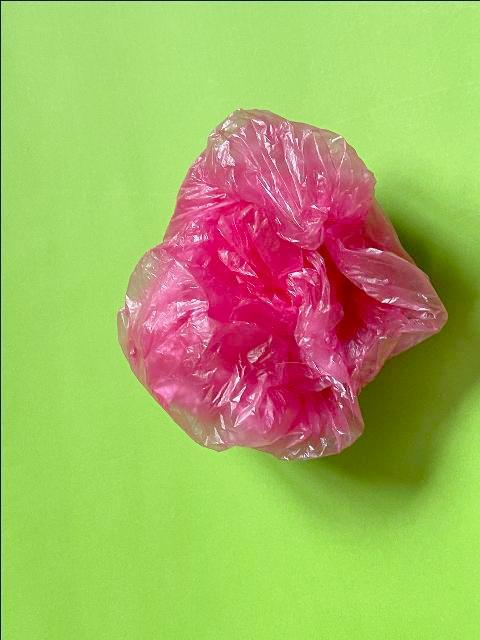plasticbag: (115, 104, 449, 462)
